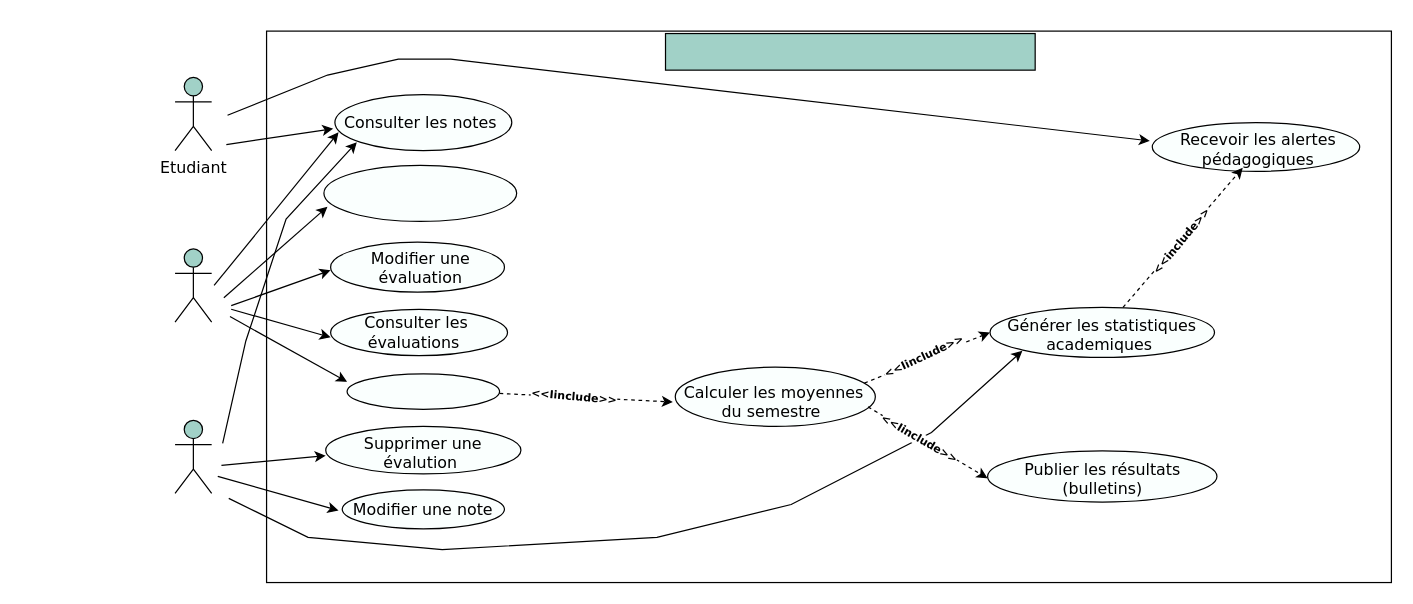
The diagram is 1413 pixels wide and 604 high, and some of its shapes have lost their labels. Each missing label, with the box of its shape:
Administration: (174, 419, 212, 493)
Créer une évaluation: (323, 164, 517, 221)
Enseignant: (174, 248, 212, 322)
GESTION DES EVALUATIONS ET NOTES: (664, 32, 1035, 70)
Saisir les notes: (346, 373, 500, 409)
